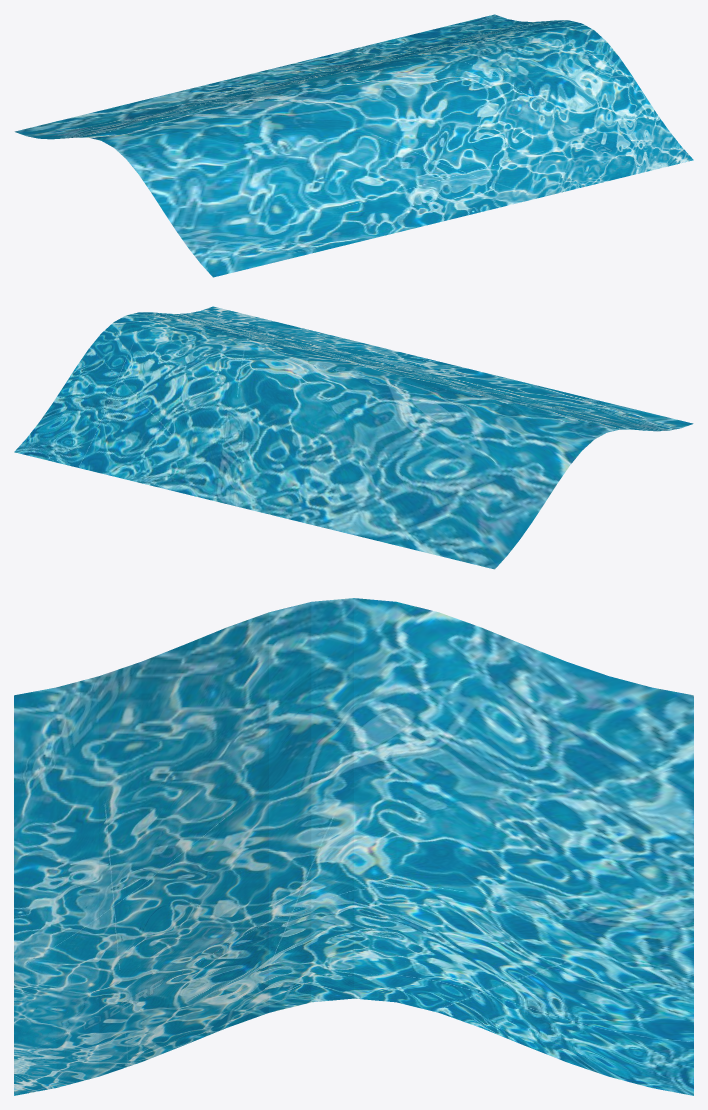
The model's file is Olas0.obj.
3 views of the same model, one above another, from view 1: azimuth 30°, elevation 25°; view 2: azimuth 150°, elevation 25°; view 3: azimuth 270°, elevation 25° (orthographic). The views are drawn at different scales.
Visible parts, largest first — view 1: Plane; view 2: Plane; view 3: Plane.
Boxes of the visible parts, x1=… form: Plane: x1=14, y1=14, x2=693, y2=277; Plane: x1=14, y1=306, x2=693, y2=569; Plane: x1=14, y1=598, x2=693, y2=1095.
Bounding box in the file's own units: 13.82 × 1.57 × 9.91.
